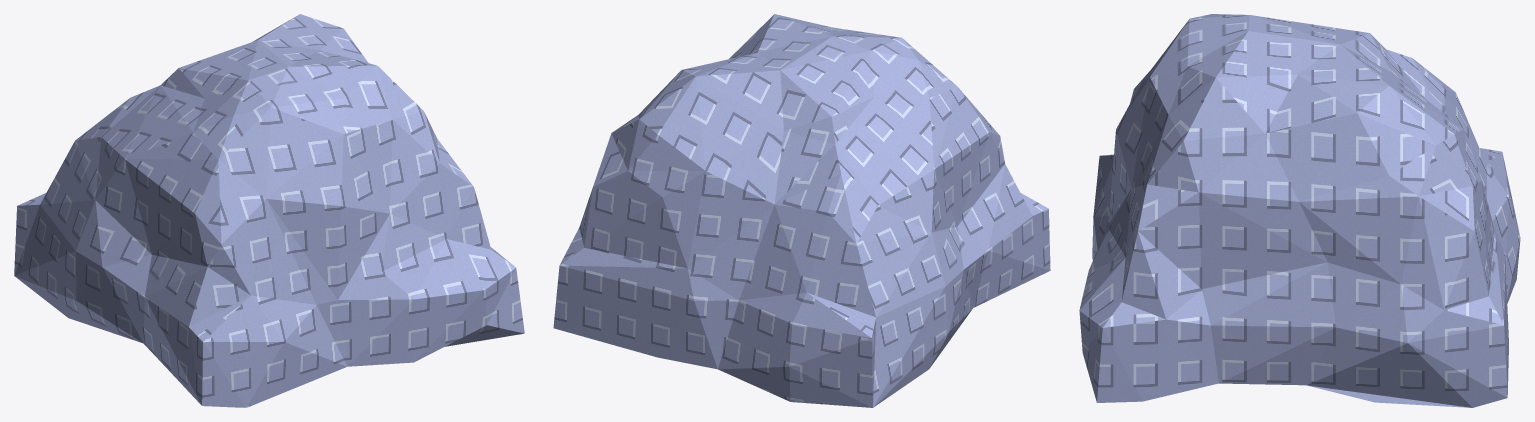
Rendered from Boulder.glb.
The picture shows the model from 3 angles, left to right: view 1: azimuth 30°, elevation 25°; view 2: azimuth 150°, elevation 25°; view 3: azimuth 270°, elevation 25°; orthographic projection. The views are drawn at different scales.
Visible parts, largest first — view 1: Boulder_Rock; view 2: Boulder_Rock; view 3: Boulder_Rock.
Part boxes in pixels (x1,y1,x2,y2): Boulder_Rock: (14,14,524,407); Boulder_Rock: (553,14,1050,407); Boulder_Rock: (1079,14,1520,407).
Bounding box in the file's own units: 9.93 × 7.29 × 9.92.
1 material, 1 textured.
